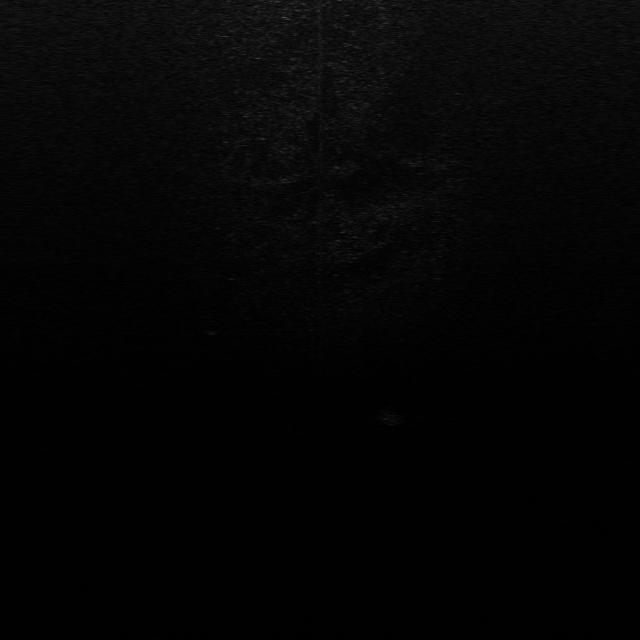ball: (377, 406, 404, 426)
circle cage: (203, 318, 228, 336)
